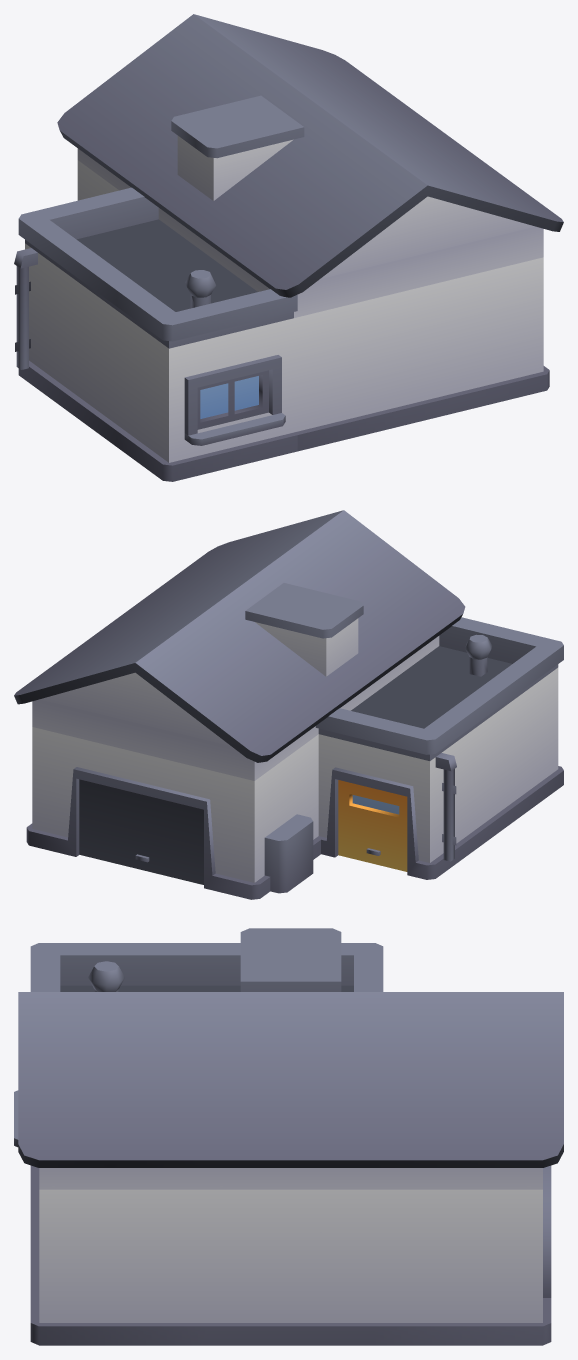
Rendered from building-h.lod.glb.
3 views of the same model, one above another, from view 1: azimuth 30°, elevation 25°; view 2: azimuth 150°, elevation 25°; view 3: azimuth 270°, elevation 25° (orthographic). The views are drawn at different scales.
Parts seen in each view (by area): view 1: building-h; view 2: building-h; view 3: building-h.
Part boxes in pixels (x1,y1,x2,y2): building-h: [14, 14, 563, 481]; building-h: [14, 510, 563, 899]; building-h: [14, 928, 563, 1345].
Bounding box in the file's own units: 1.32 × 0.7336 × 1.31.
1 material, 1 textured.
